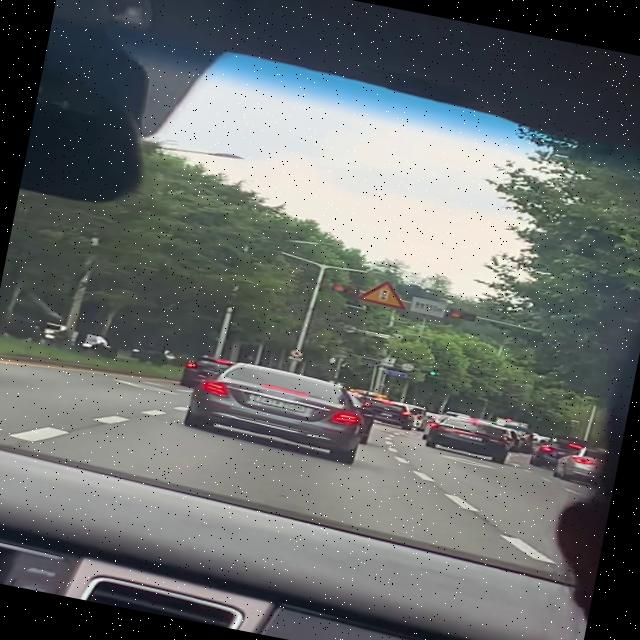yellow_light: (330, 284, 360, 296), (449, 309, 476, 322)
